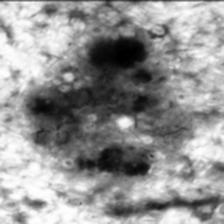Potentially Malignant Skin Tumors: (39, 34, 179, 182)
